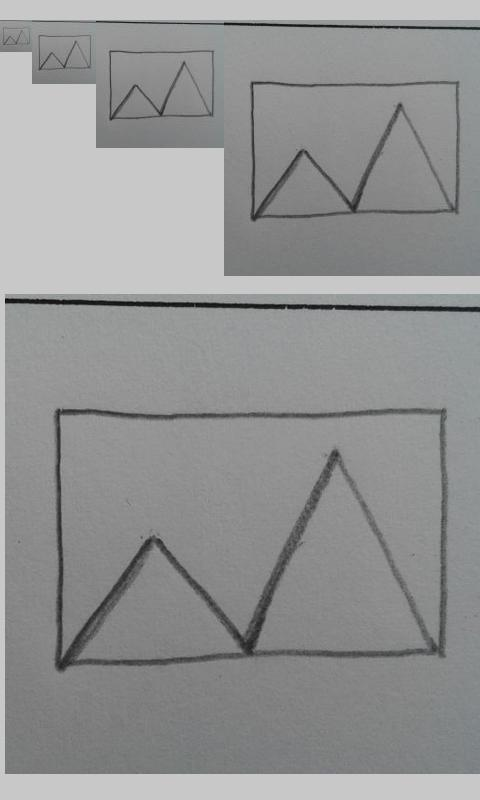image_view: (50, 402, 451, 673), (245, 75, 464, 223), (108, 49, 216, 120), (38, 34, 92, 70), (2, 27, 31, 46)
